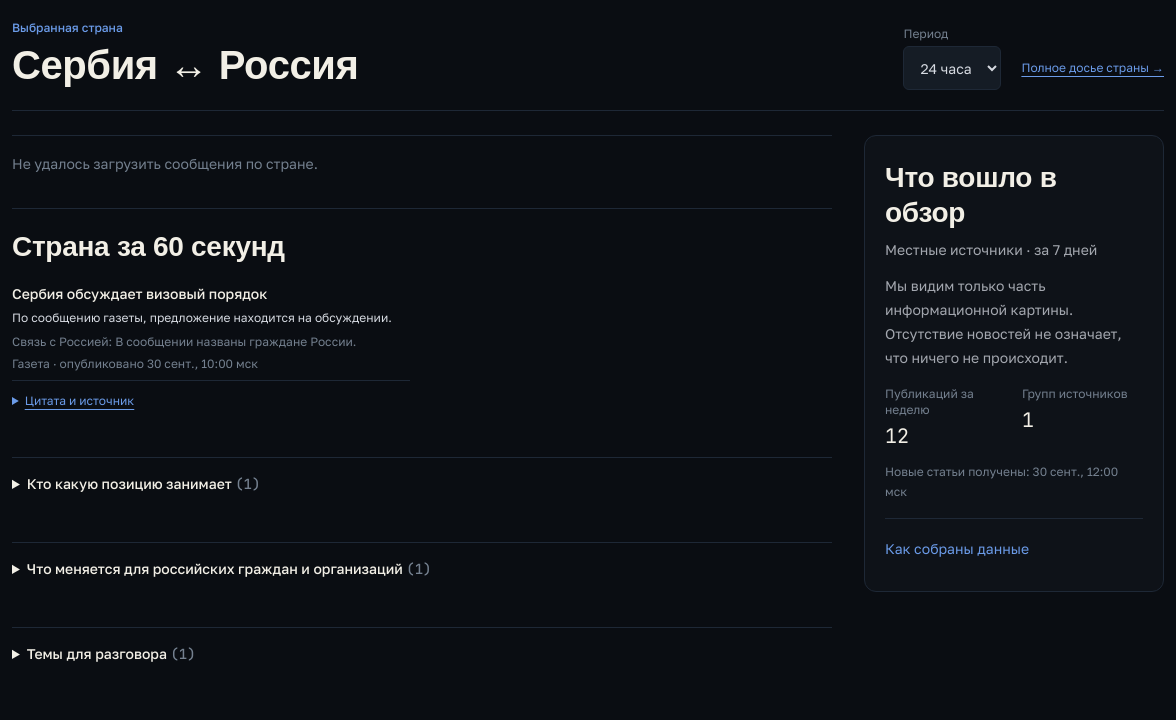
DecisionWorkspace › keeps position and change quotes first when they repeat a supporting excerpt
(page scrolled)
Expected: the heading "Сербия ↔ Россия" is shown, x1=12 y1=40 x2=358 y2=90
What coordinates should you click on to do the following:
click the heading "Кто какую позицию занимает (1)"
I would click on:
 (144, 484)
Its box is x1=27 y1=475 x2=260 y2=493.
(page scrolled)
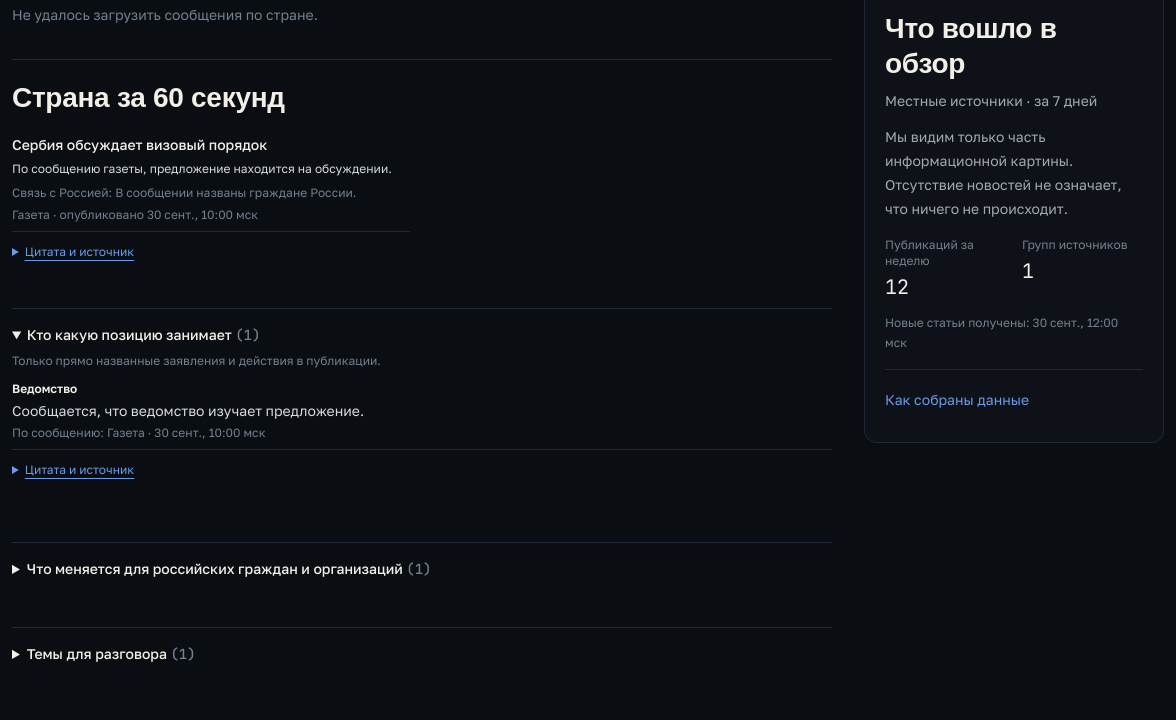
What coordinates should you click on to do the following:
click the heading "Что меняется для российских граждан и организаций (1)"
I would click on:
 (229, 569)
Its box is x1=27 y1=560 x2=432 y2=578.
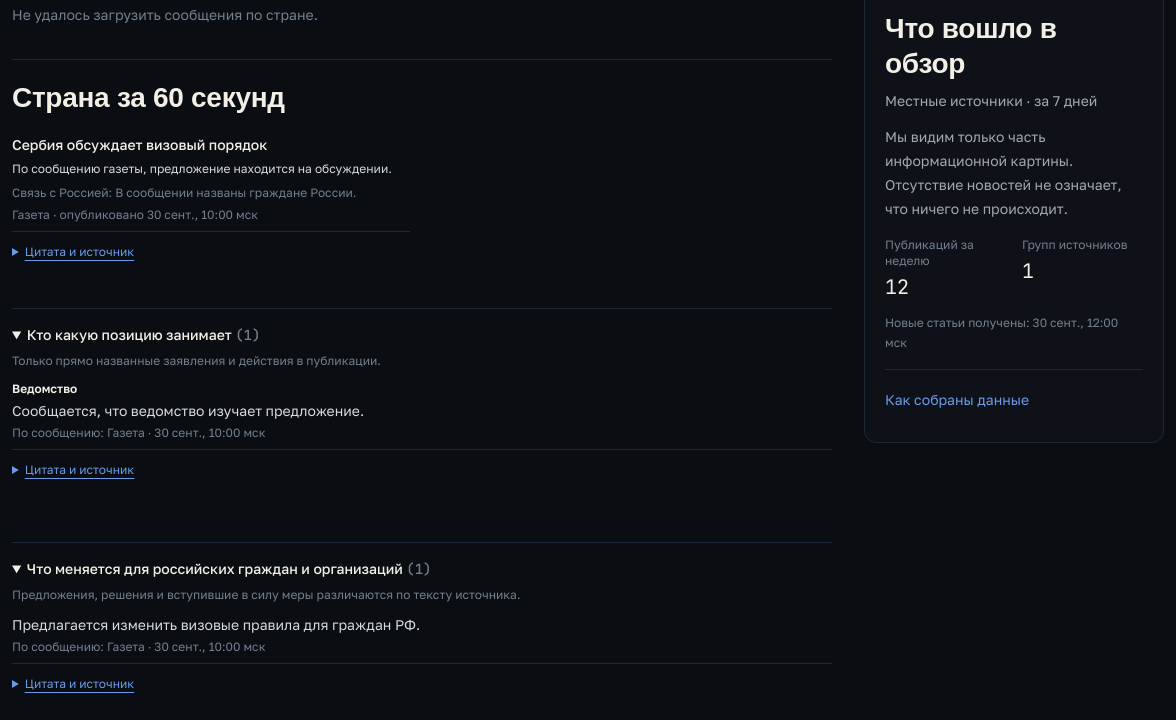
What coordinates should you click on to do the following:
click the heading "Цитата и источник" below "Кто какую позицию занимает"
I would click on:
 (73, 470)
Its box is x1=12 y1=458 x2=134 y2=482.
(page scrolled)
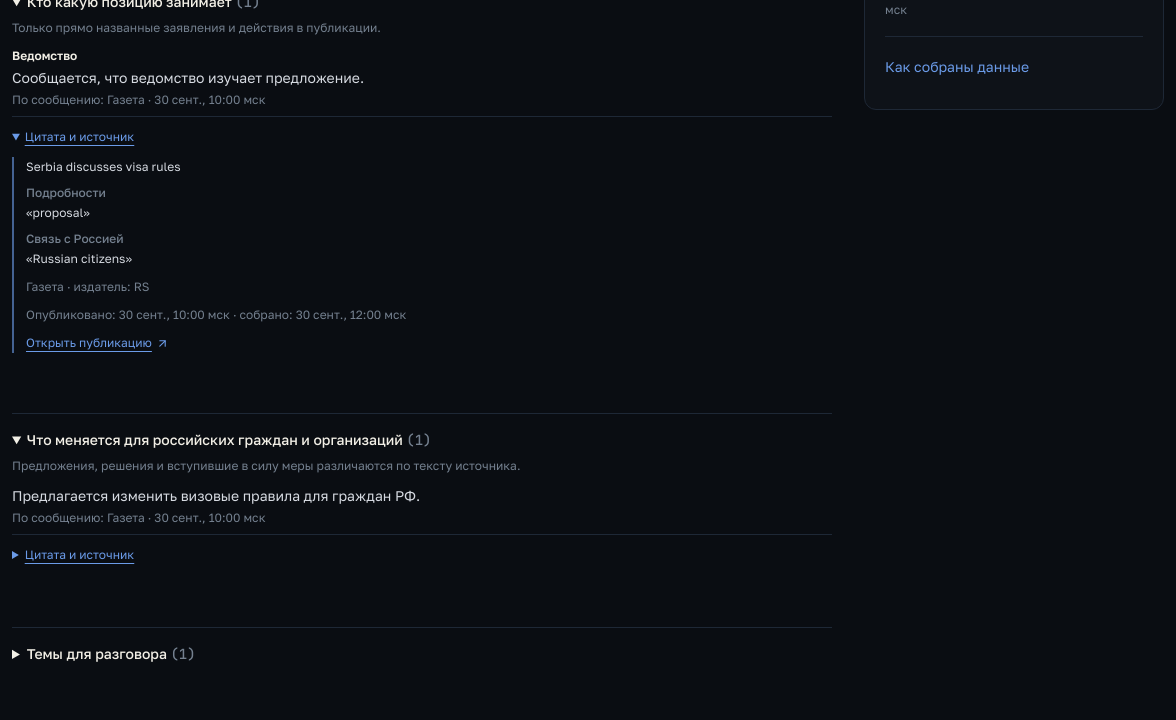
Expected: the text "«proposal»" is shown, x1=26 y1=205 x2=90 y2=220
Expected: the text "Подробности" is shown, x1=26 y1=185 x2=106 y2=200
What coordinates should you click on to do the following:
click the 2nd heading "Цитата и источник"
I would click on:
 (73, 555)
Its box is x1=12 y1=543 x2=134 y2=567.
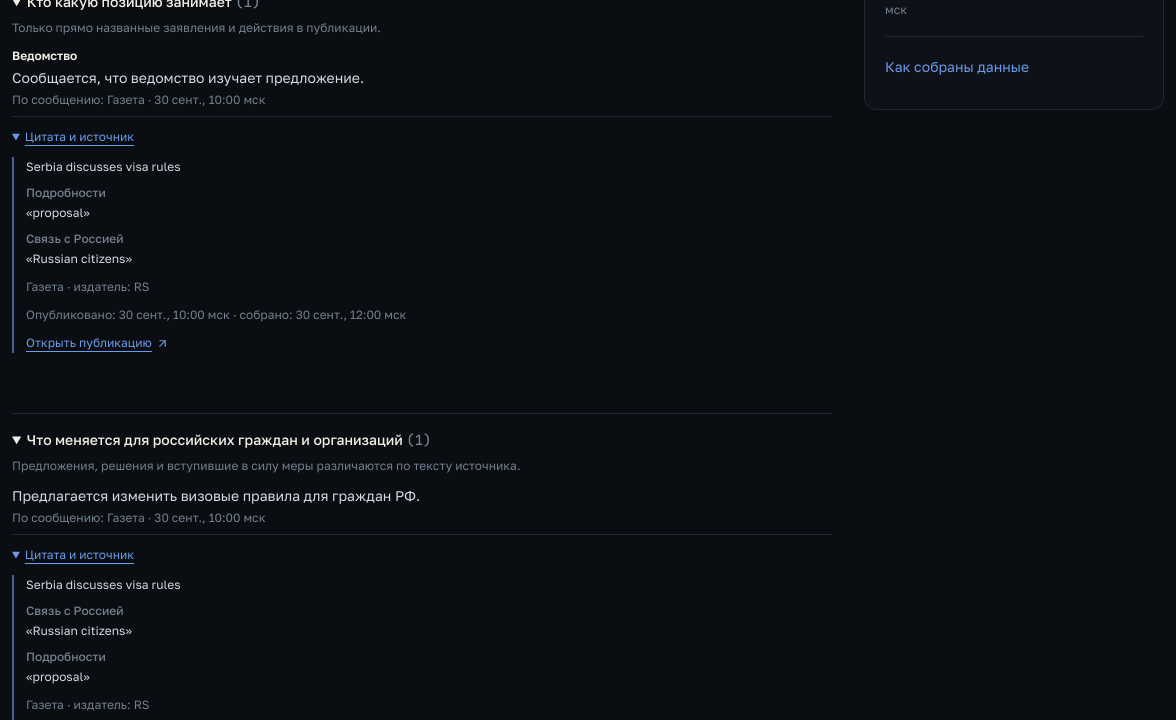
Expected: the 2nd text "«Russian citizens»" is shown, x1=26 y1=623 x2=132 y2=638
Expected: the 2nd text "Связь с Россией" is shown, x1=26 y1=603 x2=124 y2=618
